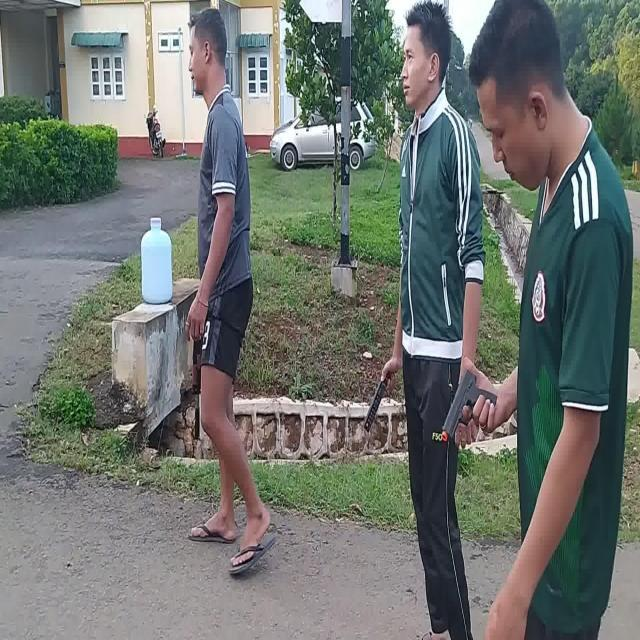gun: (444, 370, 498, 436), (194, 340, 202, 440)
